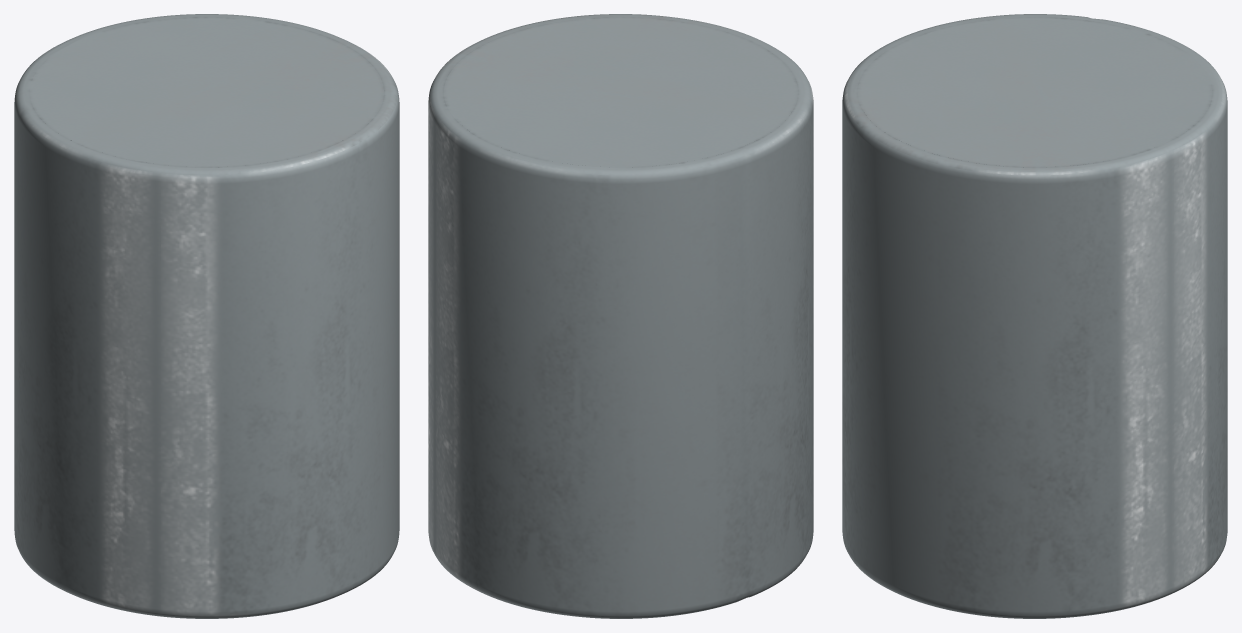
The picture shows the model from 3 angles, left to right: view 1: azimuth 30°, elevation 25°; view 2: azimuth 150°, elevation 25°; view 3: azimuth 270°, elevation 25°; orthographic projection.
Visible parts, largest first — view 1: solid; view 2: solid; view 3: solid.
Part boxes in pixels (x1,y1,x2,y2): solid: (14, 14, 399, 618); solid: (428, 14, 813, 618); solid: (842, 14, 1227, 618).
Bounding box in the file's own units: 1.12 × 1.44 × 1.12.
Materials: 1 (1 with a texture image).
